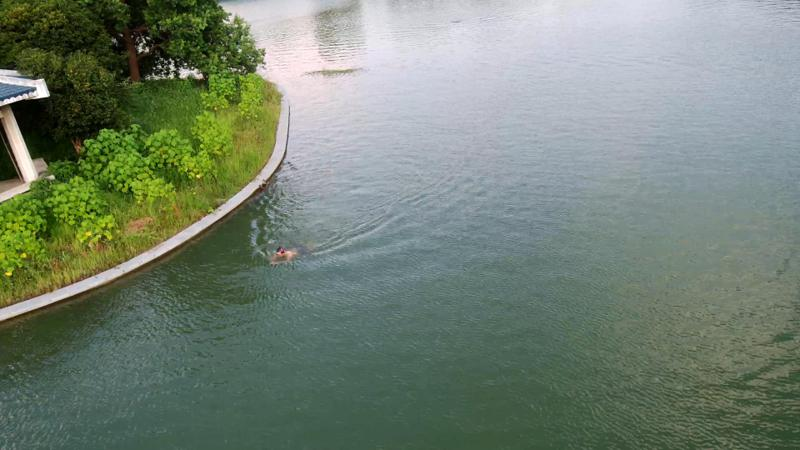swimmers: (269, 242, 315, 266)
